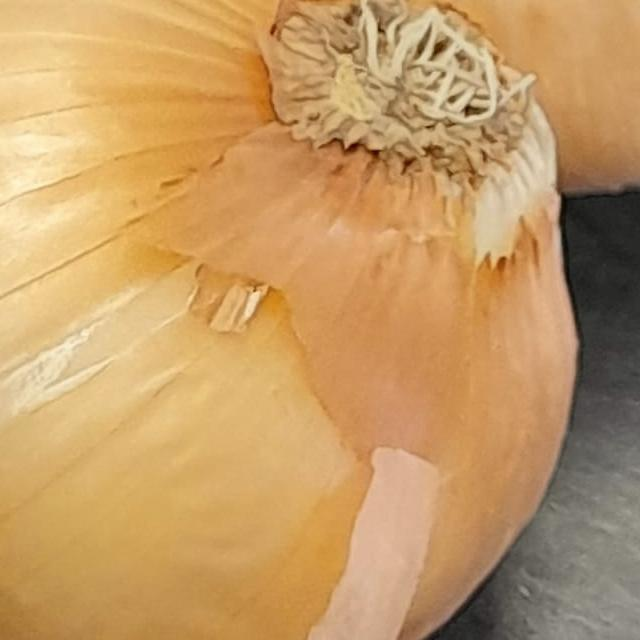onion: (0, 0, 596, 640), (219, 0, 640, 196)
